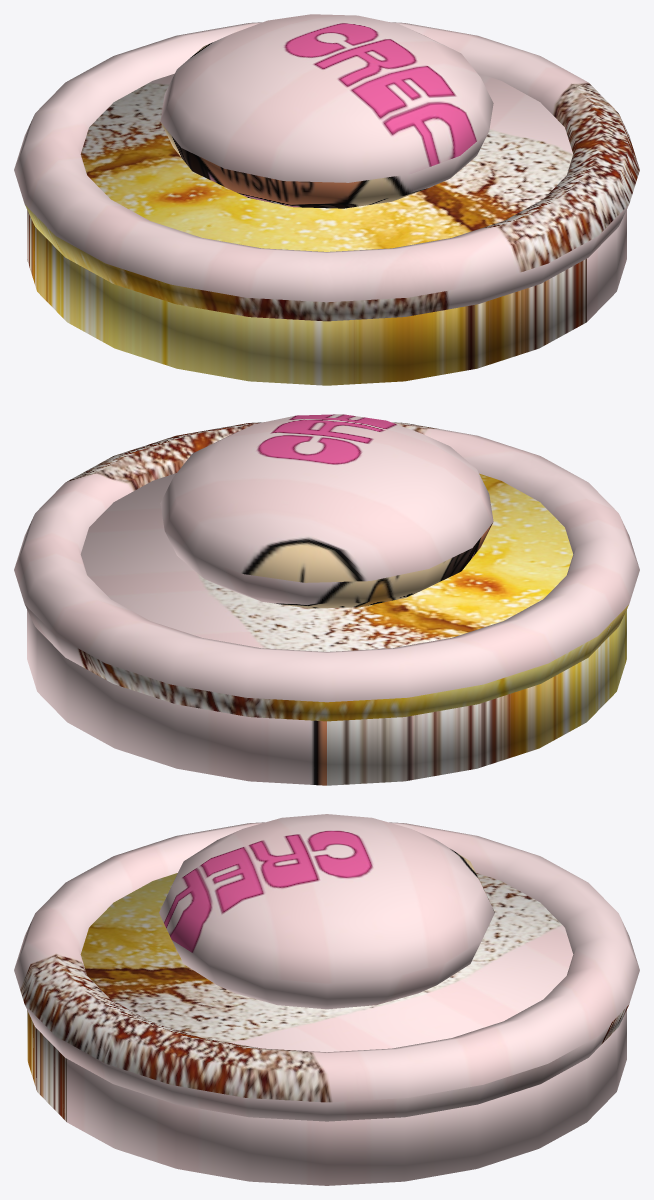
Rendered from prop_cream_cheese_danish.glb.
3 views of the same model, one above another, from view 1: azimuth 30°, elevation 25°; view 2: azimuth 150°, elevation 25°; view 3: azimuth 270°, elevation 25° (orthographic).
Parts seen in each view (by area): view 1: prop_cream_cheese_danish; view 2: prop_cream_cheese_danish; view 3: prop_cream_cheese_danish.
Part boxes in pixels (<box>): prop_cream_cheese_danish: <box>14,14,639,385</box>; prop_cream_cheese_danish: <box>14,414,639,785</box>; prop_cream_cheese_danish: <box>14,814,639,1185</box>.
Size of the model in its own units: 0.1356 by 0.0514 by 0.1356.
1 material, 1 textured.
